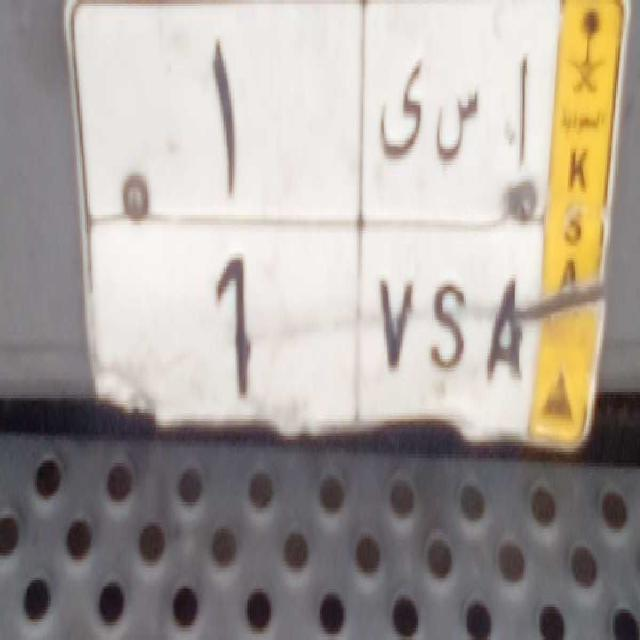license_plate: (87, 212, 543, 452)
